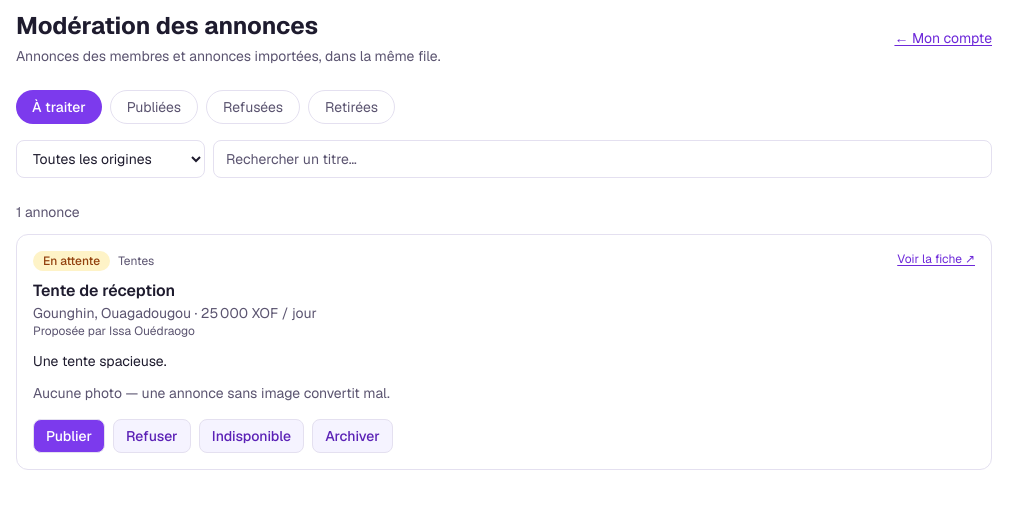
Scenario: Page de modération › dit clairement qu'un compte sans droits ne peut pas décider
Expected: the heading "Tente de réception" is shown, [33,280,175,301]
Click the button "Publier" at coordinates (69, 436), box [33,419,105,453]
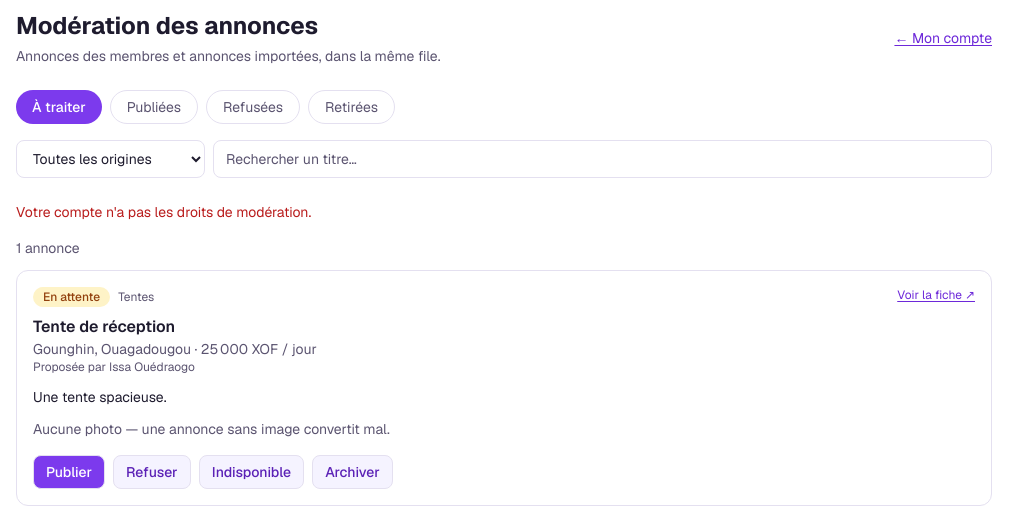
Expected: the message shows "droits de modération", [16,203,311,221]
